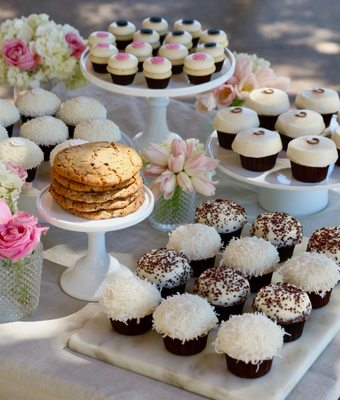sushi: (49, 140, 145, 220), (214, 313, 284, 379), (152, 293, 219, 356), (271, 252, 339, 309), (100, 276, 162, 336), (252, 283, 313, 342), (218, 236, 280, 291), (166, 223, 223, 275), (192, 266, 250, 317), (136, 248, 193, 296), (250, 211, 303, 261), (287, 135, 338, 183), (19, 115, 69, 161), (232, 128, 283, 172), (213, 106, 261, 150), (194, 199, 248, 235), (275, 108, 326, 140), (306, 226, 340, 266), (74, 118, 122, 143), (183, 52, 216, 84), (107, 52, 138, 85), (143, 56, 173, 89)
